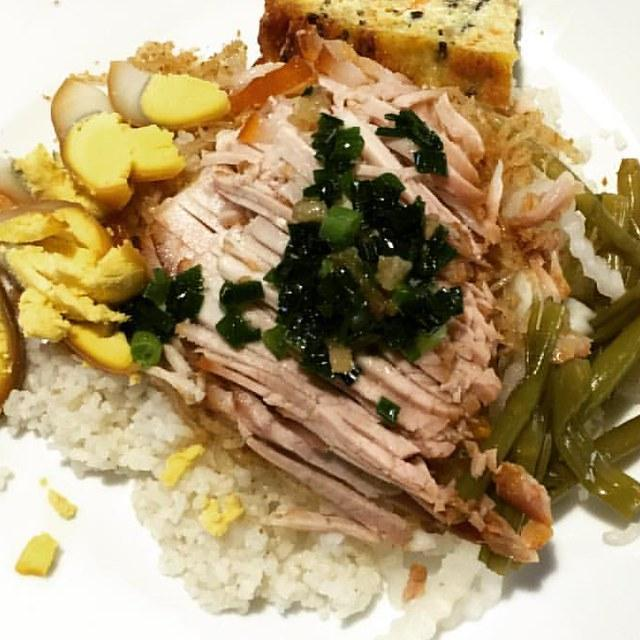bi: (443, 76, 590, 205)
cha: (255, 0, 522, 117)
com: (124, 435, 392, 633), (3, 334, 201, 487)
com suon bi cha trung: (0, 0, 640, 640)
dua chua: (478, 151, 640, 526), (323, 494, 532, 640)
suon: (131, 21, 505, 551)
trung: (0, 58, 237, 438)
